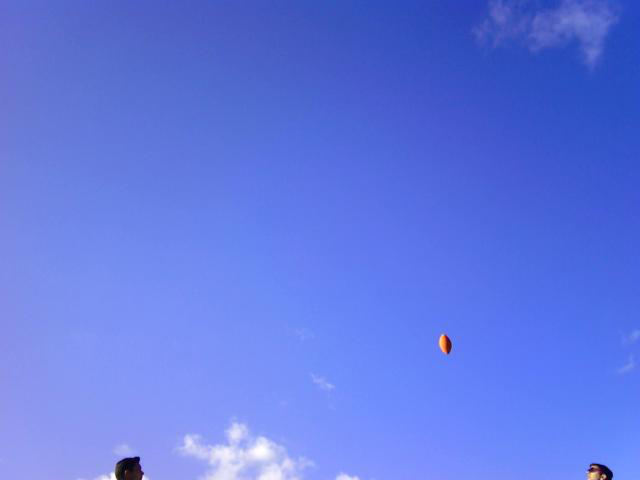football: (436, 331, 454, 360)
